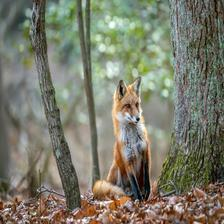fox: (103, 67, 163, 224)
